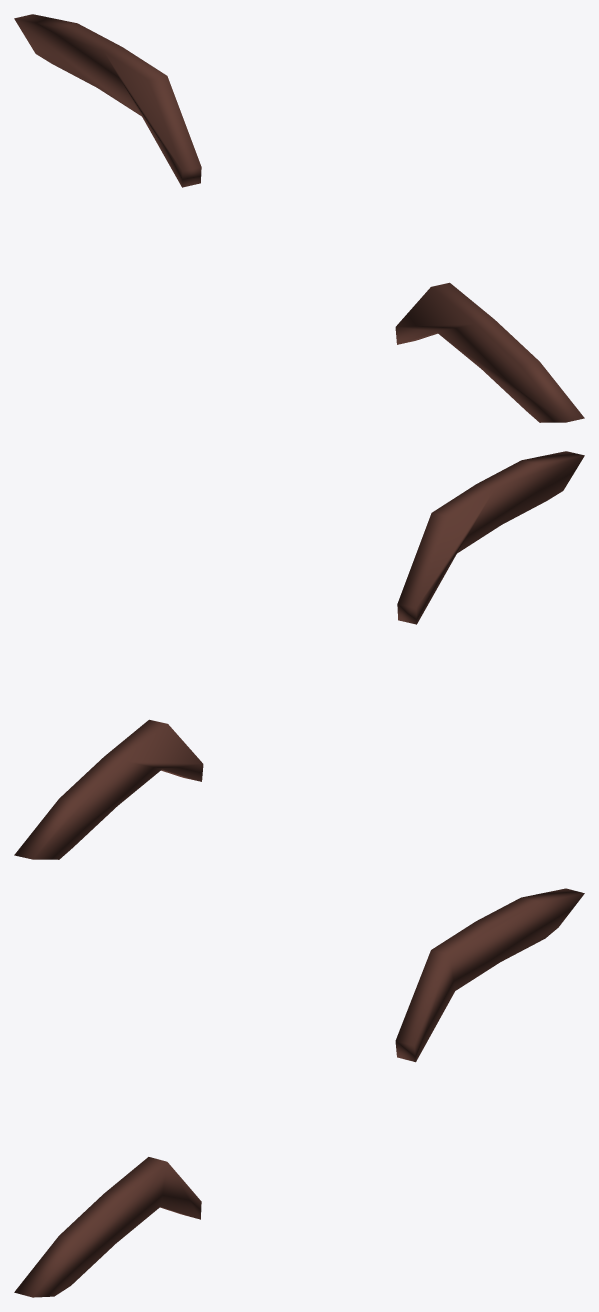
File: DavidBrows.glb
3 views of the same model, one above another, from view 1: azimuth 30°, elevation 25°; view 2: azimuth 150°, elevation 25°; view 3: azimuth 330°, elevation 25° (orthographic).
Parts seen in each view (by area): view 1: DavidBrows; view 2: DavidBrows; view 3: DavidBrows.
Part boxes in pixels (x1,y1,x2,y2): DavidBrows: [14, 14, 584, 422]; DavidBrows: [14, 451, 584, 859]; DavidBrows: [14, 888, 584, 1297].
Size of the model in its own units: 0.0672 by 0.2515 by 3.03.
